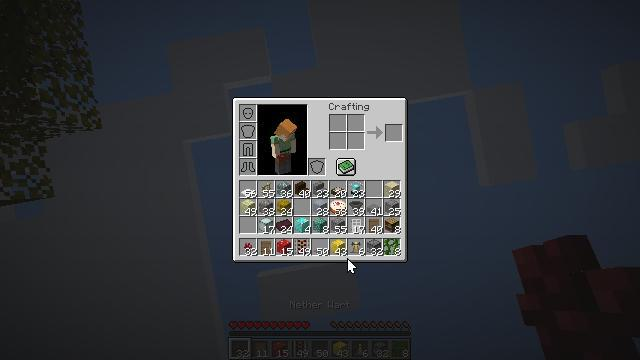cursor: (347, 258, 357, 274)
